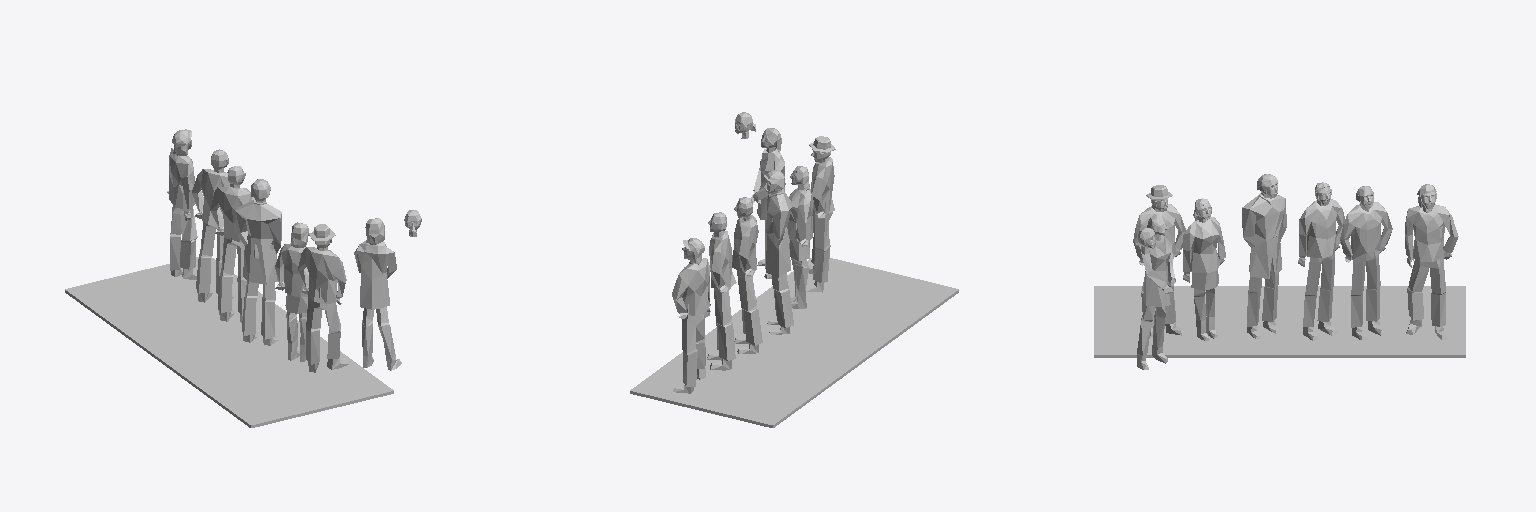
File: crowd.obj
The picture shows the model from 3 angles: view 1: azimuth 30°, elevation 25°; view 2: azimuth 150°, elevation 25°; view 3: azimuth 270°, elevation 25°; orthographic projection.
Parts seen in each view (by area): view 1: group[number redacted], group[number redacted], group[number redacted], group[number redacted], group[number redacted], group[number redacted], group[number redacted], group[number redacted], group[number redacted], group[number redacted], group[number redacted], group[number redacted] (+3 smaller); view 2: group[number redacted], group[number redacted], group[number redacted], group[number redacted], group[number redacted], group[number redacted], group[number redacted], group[number redacted], group[number redacted], group[number redacted], group[number redacted], group[number redacted] (+2 smaller); view 3: group[number redacted], group[number redacted], group[number redacted], group[number redacted], group[number redacted], group[number redacted], group[number redacted], group[number redacted], group[number redacted], group[number redacted], group[number redacted], group[number redacted] (+2 smaller).
Boxes of the visible parts, x1=… form: group[number redacted]: x1=65, y1=257, x2=393, y2=427; group[number redacted]: x1=235, y1=199, x2=281, y2=284; group[number redacted]: x1=354, y1=240, x2=396, y2=309; group[number redacted]: x1=298, y1=247, x2=346, y2=304; group[number redacted]: x1=306, y1=288, x2=349, y2=372; group[number redacted]: x1=170, y1=206, x2=197, y2=279; group[number redacted]: x1=242, y1=244, x2=279, y2=345; group[number redacted]: x1=218, y1=238, x2=256, y2=322; group[number redacted]: x1=275, y1=243, x2=307, y2=313; group[number redacted]: x1=210, y1=186, x2=254, y2=241; group[number redacted]: x1=167, y1=148, x2=194, y2=220; group[number redacted]: x1=196, y1=222, x2=234, y2=302; group[number redacted]: x1=630, y1=258, x2=958, y2=427; group[number redacted]: x1=765, y1=189, x2=791, y2=277; group[number redacted]: x1=672, y1=258, x2=710, y2=318; group[number redacted]: x1=673, y1=304, x2=705, y2=393; group[number redacted]: x1=787, y1=188, x2=813, y2=260; group[number redacted]: x1=734, y1=264, x2=762, y2=353; group[number redacted]: x1=707, y1=287, x2=735, y2=370; group[number redacted]: x1=806, y1=202, x2=832, y2=292; group[number redacted]: x1=732, y1=215, x2=758, y2=275; group[number redacted]: x1=709, y1=231, x2=736, y2=292; group[number redacted]: x1=811, y1=157, x2=834, y2=218; group[number redacted]: x1=767, y1=235, x2=793, y2=334; group[number redacted]: x1=1094, y1=286, x2=1465, y2=357; group[number redacted]: x1=1242, y1=193, x2=1286, y2=278; group[number redacted]: x1=1183, y1=217, x2=1225, y2=290; group[number redacted]: x1=1405, y1=204, x2=1458, y2=267; group[number redacted]: x1=1340, y1=202, x2=1392, y2=262; group[number redacted]: x1=1298, y1=199, x2=1344, y2=266; group[number redacted]: x1=1406, y1=258, x2=1447, y2=339; group[number redacted]: x1=1303, y1=252, x2=1337, y2=340; group[number redacted]: x1=1351, y1=255, x2=1386, y2=340; group[number redacted]: x1=1141, y1=235, x2=1175, y2=306; group[number redacted]: x1=1247, y1=266, x2=1280, y2=338; group[number redacted]: x1=1137, y1=306, x2=1167, y2=369.
Bounding box in the file's own units: 5.53 × 4.32 × 9.08.